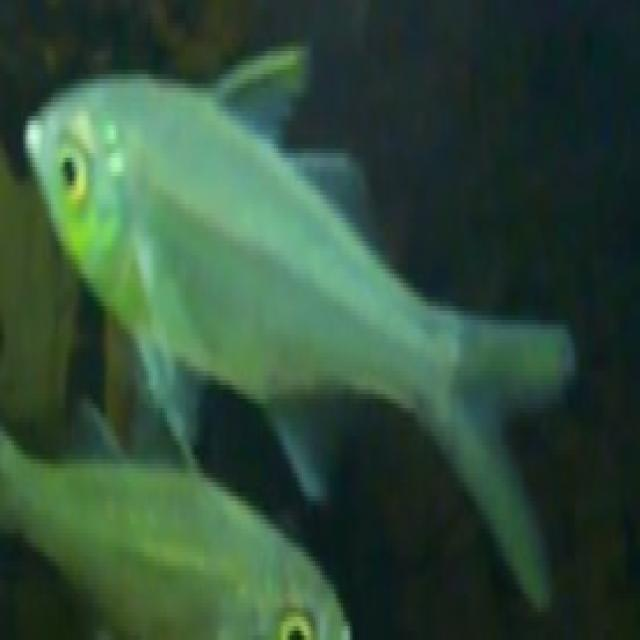Glass-Perchlet: (8, 23, 579, 606)
